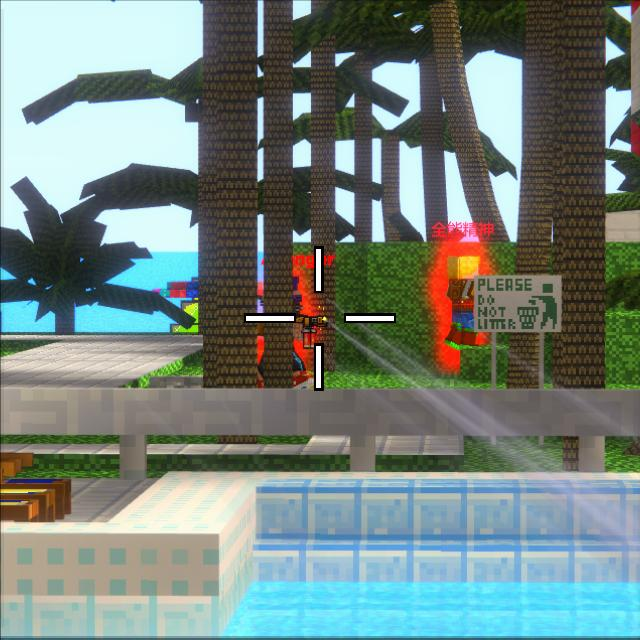Enemy: (258, 276, 314, 389), (443, 256, 481, 350)
